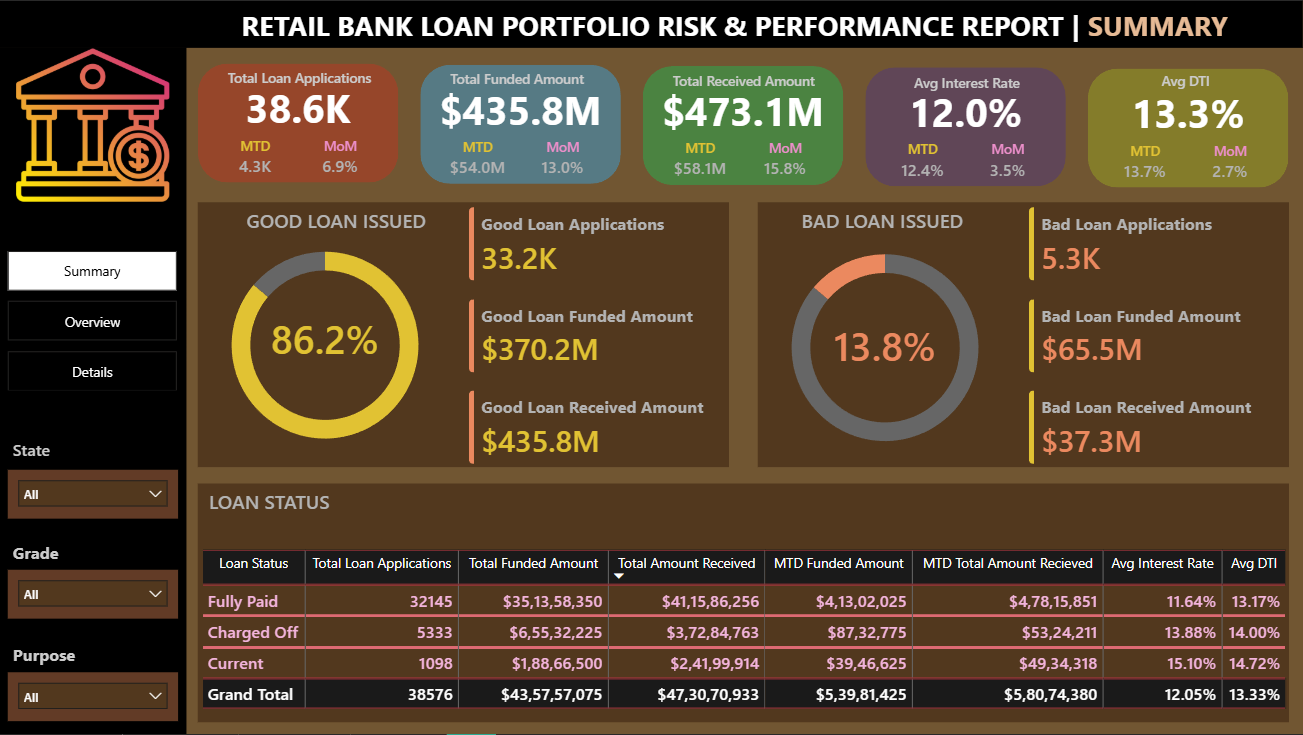

The page's visual inventory and layout, read from the dashboard file:
{"tool":"powerbi","page":{"name":"Summary","canvas":[1280,720],"ordinal":0},"visuals":[{"type":"shape","box":[195.1,61.4,197,117],"z":0,"group":"g1"},{"type":"shape","box":[413.5,62.6,197,117],"z":0,"group":"g2"},{"type":"shape","box":[631.9,63.8,197,117],"z":0,"group":"g3"},{"type":"shape","box":[850.3,65,197,117],"z":0,"group":"g4"},{"type":"shape","box":[1068.7,66.3,197,117],"z":0,"group":"g5"},{"type":"shape","box":[195.1,473.6,1071.2,234.4],"z":0},{"type":"card","fields":{"Values":["financial_loan.Total Loan Applications"]},"box":[195.1,81,197.5,47.9],"z":1000,"group":"g1"},{"type":"card","fields":{"Values":["Date Table.Total Funded Amount"]},"box":[413.5,82.2,197.5,47.9],"z":1000,"group":"g2"},{"type":"card","fields":{"Values":["Date Table.Total Amount Received"]},"box":[631.9,83.4,197.5,47.9],"z":1000,"group":"g3"},{"type":"card","fields":{"Values":["financial_loan.Avg Interest Rate"]},"box":[850.3,84.6,197.5,47.9],"z":1000,"group":"g4"},{"type":"card","fields":{"Values":["Date Table.Avg DTI"]},"box":[1068.7,85.9,197.5,47.9],"z":1000,"group":"g5"},{"type":"shape","box":[195.1,197.5,521.5,260.1],"z":1000},{"type":"shape","box":[0,0,1279.8,46],"z":2000},{"type":"textbox","box":[219.6,61.4,193.9,39.3],"z":2000,"group":"g1"},{"type":"textbox","box":[438,62.6,193.9,39.3],"z":2000,"group":"g2"},{"type":"textbox","box":[656.4,63.8,193.9,39.3],"z":2000,"group":"g3"},{"type":"textbox","box":[892.9,66.2,193.9,39.3],"z":2000,"group":"g4"},{"type":"card","title":"MTD","fields":{"Values":["financial_loan.MTD Loan Applications"]},"box":[209.8,132.6,83.4,45.4],"z":3000,"group":"g1"},{"type":"card","title":"MTD","fields":{"Values":["Date Table.MTD Funded Amount"]},"box":[428.2,133.8,83.4,45.4],"z":3000,"group":"g2"},{"type":"card","title":"MTD","fields":{"Values":["financial_loan.MTD Total Amount Recieved"]},"box":[646.6,135,83.4,45.4],"z":3000,"group":"g3"},{"type":"card","title":"MTD","fields":{"Values":["Date Table.MTD Avg Int Rate"]},"box":[865,136.2,83.4,45.4],"z":3000,"group":"g4"},{"type":"card","title":"MTD","fields":{"Values":["Date Table.MTD Avg DTI"]},"box":[1083.4,137.5,83.4,45.4],"z":3000,"group":"g5"},{"type":"shape","box":[0,45.4,184.1,674.9],"z":4000},{"type":"card","title":"MoM","fields":{"Values":["Date Table.MoM Loan Applications"]},"box":[293.3,132.6,83.4,45.4],"z":4000,"group":"g1"},{"type":"card","title":"MoM","fields":{"Values":["Date Table.MoM Total Funded Amount"]},"box":[511.7,133.8,83.4,45.4],"z":4000,"group":"g2"},{"type":"card","title":"MoM","fields":{"Values":["Date Table.MoM Total Recieved Amount"]},"box":[730.1,135,83.4,45.4],"z":4000,"group":"g3"},{"type":"card","title":"MoM","fields":{"Values":["Date Table.MoM Avg Int Rate"]},"box":[948.5,136.2,83.4,45.4],"z":4000,"group":"g4"},{"type":"card","title":"MoM","fields":{"Values":["Date Table.MoM Avg DTI"]},"box":[1166.9,137.5,83.4,45.4],"z":4000,"group":"g5"},{"type":"textbox","box":[201.2,473.6,207.4,47.9],"z":5000},{"type":"textbox","box":[233.1,1.2,992.6,45.4],"z":6000},{"type":"card","fields":{"Values":["financial_loan.Good Loan %"]},"box":[255.2,303.1,130.1,56.4],"z":7000},{"type":"group","id":"g1","title":"Group 1","box":[195.1,61.4,218.4,116.6],"z":8000},{"type":"group","id":"g2","title":"Group 1","box":[413.5,62.6,218.4,116.6],"z":9000},{"type":"group","id":"g3","title":"Group 1","box":[631.9,63.8,218.4,116.6],"z":10000},{"type":"group","id":"g4","title":"Group 1","box":[850.3,65,236.4,117],"z":11000},{"type":"group","id":"g5","title":"Group 1","box":[1068.7,66.3,197.5,117],"z":12000},{"type":"shape","box":[744.8,197.5,521.5,260.1],"z":13000},{"type":"donutChart","fields":{"Category":["financial_loan.Good vs Bad Loan"],"Y":["financial_loan.Total Loan Applications"]},"box":[195.1,218.4,250.3,239.3],"z":14000},{"type":"cardVisual","fields":{"Data":["financial_loan.Good Loan Applications","financial_loan.Good Loan Funded Amount","financial_loan.Good Loan Received Amount"]},"box":[456.4,197.5,260.1,262.6],"z":15000},{"type":"donutChart","fields":{"Category":["financial_loan.Good vs Bad Loan"],"Y":["financial_loan.Total Loan Applications"]},"box":[744.8,220.9,250.3,239.3],"z":16000},{"type":"textbox","box":[782.8,197.5,207.4,47.9],"z":17000},{"type":"card","fields":{"Values":["financial_loan.Bad Loan %"]},"box":[804.9,310.4,130.1,56.4],"z":18000},{"type":"cardVisual","fields":{"Data":["financial_loan.Bad Loan Applications","financial_loan.Bad Loan Funded Amount","financial_loan.Bad Loan Received Amount"]},"box":[1006.1,197.5,260.1,262.6],"z":19000},{"type":"tableEx","fields":{"Values":["financial_loan.loan_status","financial_loan.Total Loan Applications","Date Table.Total Funded Amount","Date Table.Total Amount Received","Date Table.MTD Funded Amount","financial_loan.MTD Total Amount Recieved","financial_loan.Avg Interest Rate","Date Table.Avg DTI"]},"box":[193.9,533.7,1074.9,186.5],"z":20000},{"type":"textbox","box":[238,197.5,207.4,47.9],"z":21000},{"type":"slicer","fields":{"Values":["financial_loan.address_state"]},"box":[8.6,460.1,166.9,47.9],"z":22000},{"type":"textbox","box":[8.6,424.5,67.5,33.1],"z":23000},{"type":"slicer","fields":{"Values":["financial_loan.grade"]},"box":[8.6,558.3,166.9,47.9],"z":24000},{"type":"textbox","box":[8.6,525.2,67.5,33.1],"z":25000},{"type":"slicer","fields":{"Values":["financial_loan.purpose"]},"box":[8.6,658.9,166.9,47.9],"z":26000},{"type":"textbox","box":[8.6,625.8,83.4,33.1],"z":27000},{"type":"image","box":[0,46.2,183.8,150],"z":28000},{"type":"pageNavigator","box":[8.8,245,166.2,137.5],"z":29000},{"type":"textbox","box":[1136,64,144,32],"z":29500}]}

Visuals, with their boxes on the page's 1280x720 design canvas (x1, y1, x2, y2). These are canvas units, not pixel positions in the 1303x735 screenshot, which may show the page scaled, cropped or inside an application window:
shape: bbox=[195, 61, 392, 178]
shape: bbox=[414, 63, 610, 180]
shape: bbox=[632, 64, 829, 181]
shape: bbox=[850, 65, 1047, 182]
shape: bbox=[1069, 66, 1266, 183]
shape: bbox=[195, 474, 1266, 708]
card - financial_loan.Total Loan Applications: bbox=[195, 81, 393, 129]
card - Date Table.Total Funded Amount: bbox=[414, 82, 611, 130]
card - Date Table.Total Amount Received: bbox=[632, 83, 829, 131]
card - financial_loan.Avg Interest Rate: bbox=[850, 85, 1048, 132]
card - Date Table.Avg DTI: bbox=[1069, 86, 1266, 134]
shape: bbox=[195, 198, 717, 458]
shape: bbox=[0, 0, 1280, 46]
textbox: bbox=[220, 61, 414, 101]
textbox: bbox=[438, 63, 632, 102]
textbox: bbox=[656, 64, 850, 103]
textbox: bbox=[893, 66, 1087, 106]
"MTD" card: bbox=[210, 133, 293, 178]
"MTD" card: bbox=[428, 134, 512, 179]
"MTD" card: bbox=[647, 135, 730, 180]
"MTD" card: bbox=[865, 136, 948, 182]
"MTD" card: bbox=[1083, 138, 1167, 183]
shape: bbox=[0, 45, 184, 720]
"MoM" card: bbox=[293, 133, 377, 178]
"MoM" card: bbox=[512, 134, 595, 179]
"MoM" card: bbox=[730, 135, 814, 180]
"MoM" card: bbox=[948, 136, 1032, 182]
"MoM" card: bbox=[1167, 138, 1250, 183]
textbox: bbox=[201, 474, 409, 522]
textbox: bbox=[233, 1, 1226, 47]
card - financial_loan.Good Loan %: bbox=[255, 303, 385, 360]
"Group 1" group: bbox=[195, 61, 414, 178]
"Group 1" group: bbox=[414, 63, 632, 179]
"Group 1" group: bbox=[632, 64, 850, 180]
"Group 1" group: bbox=[850, 65, 1087, 182]
"Group 1" group: bbox=[1069, 66, 1266, 183]
shape: bbox=[745, 198, 1266, 458]
donutChart - financial_loan.Good vs Bad Loan x financial_loan.Total Loan Applications: bbox=[195, 218, 445, 458]
cardVisual - financial_loan.Good Loan Applications x financial_loan.Good Loan Funded Amount: bbox=[456, 198, 716, 460]
donutChart - financial_loan.Good vs Bad Loan x financial_loan.Total Loan Applications: bbox=[745, 221, 995, 460]
textbox: bbox=[783, 198, 990, 245]
card - financial_loan.Bad Loan %: bbox=[805, 310, 935, 367]
cardVisual - financial_loan.Bad Loan Applications x financial_loan.Bad Loan Funded Amount: bbox=[1006, 198, 1266, 460]
tableEx - financial_loan.loan_status x financial_loan.Total Loan Applications: bbox=[194, 534, 1269, 720]
textbox: bbox=[238, 198, 445, 245]
slicer - financial_loan.address_state: bbox=[9, 460, 176, 508]
textbox: bbox=[9, 424, 76, 458]
slicer - financial_loan.grade: bbox=[9, 558, 176, 606]
textbox: bbox=[9, 525, 76, 558]
slicer - financial_loan.purpose: bbox=[9, 659, 176, 707]
textbox: bbox=[9, 626, 92, 659]
image: bbox=[0, 46, 184, 196]
pageNavigator: bbox=[9, 245, 175, 382]
textbox: bbox=[1136, 64, 1280, 96]
